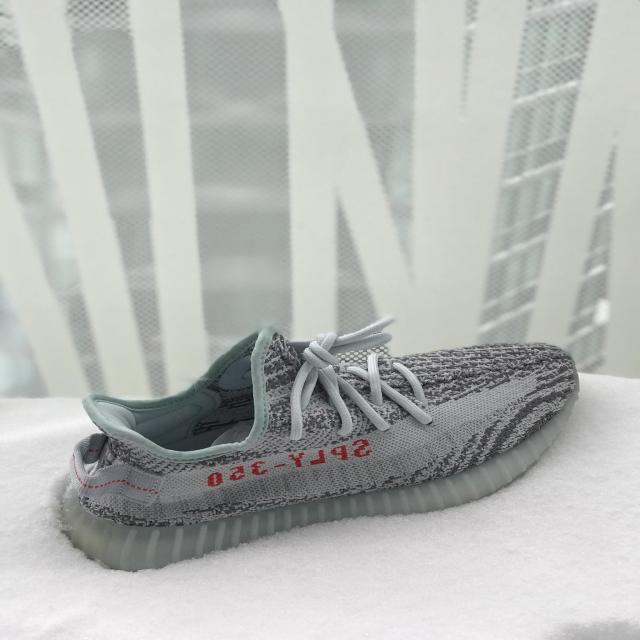shoe: (19, 247, 609, 583), (284, 248, 583, 624)
